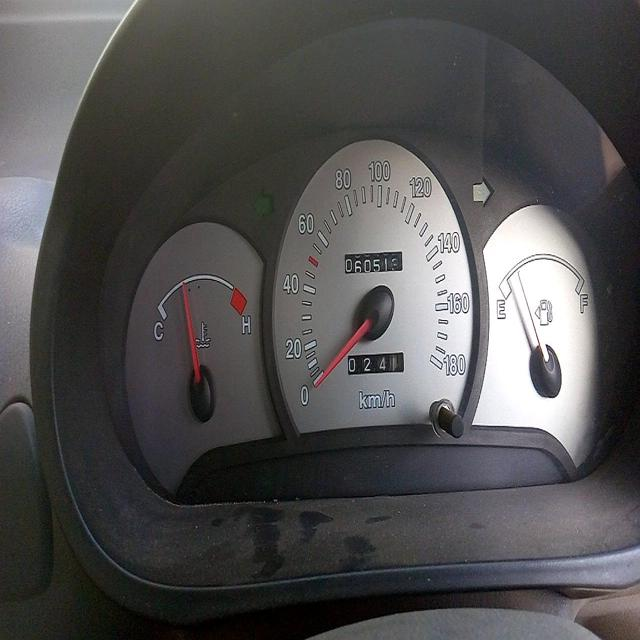odometer: (344, 252, 403, 272)
